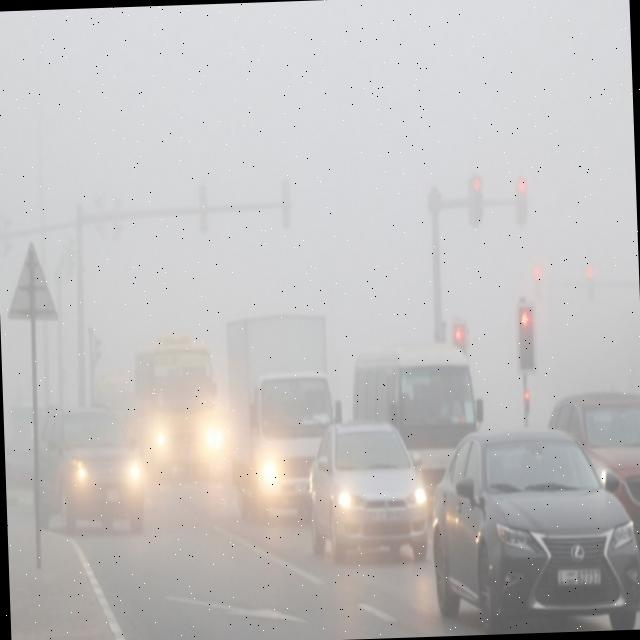bus: (226, 316, 336, 516)
car: (426, 415, 640, 633), (304, 414, 432, 568), (38, 402, 140, 534), (543, 391, 640, 522)
truck: (352, 336, 483, 500), (129, 336, 221, 487)
